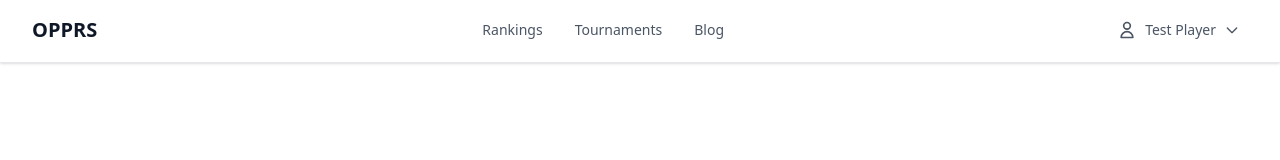
Test: AppHeader › when user is authenticated › renders Profile link in dropdown when clicked
Expected: the text "Test Player" is shown, left=1145, top=20, right=1216, bottom=40
Note: Click the first profile dropdown button (desktop view)
Click the button "Test Player".
click(1179, 30)  # box left=1109, top=16, right=1248, bottom=44
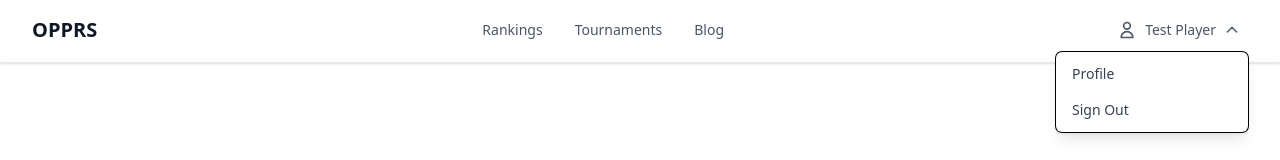
Now the menu item "Profile" is shown, box left=1072, top=64, right=1114, bottom=83
